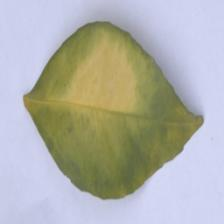greening: (20, 20, 152, 139)
